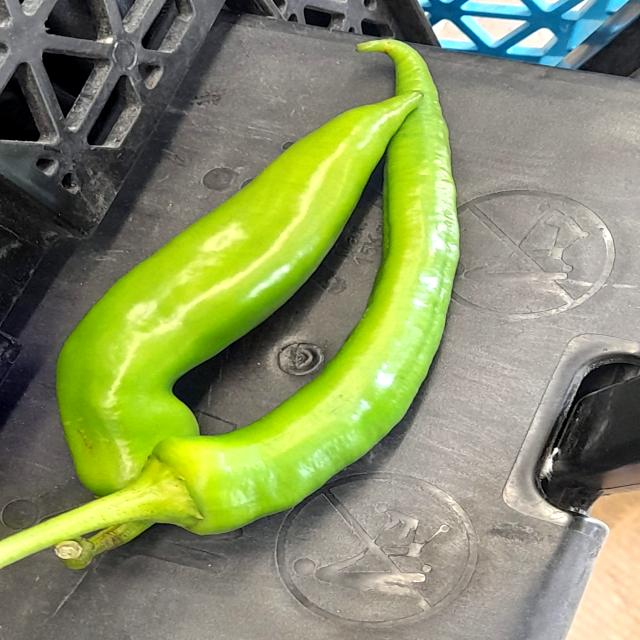green pepper: (45, 70, 442, 568), (115, 27, 485, 556)
